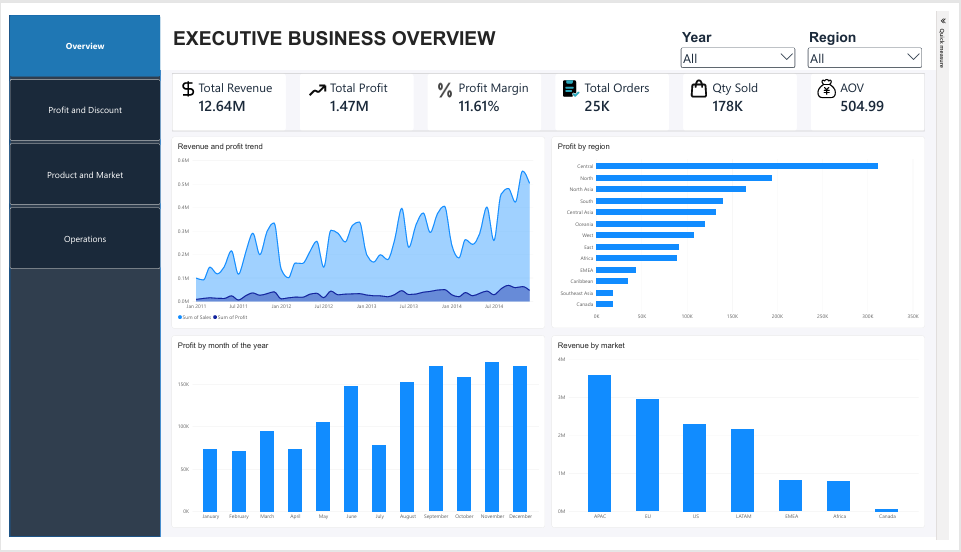

What the dashboard file says about the page in this screenshot:
{"tool":"powerbi","page":{"name":"Overview","canvas":[2560,1440],"ordinal":0},"visuals":[{"type":"shape","box":[0,0,416,1441.3],"z":0},{"type":"shape","box":[416.6,0,2143.4,151.2],"z":1000},{"type":"textbox","box":[416,32,960,128],"z":2000},{"type":"slicer","fields":{"Values":["Sheet1.Region"]},"box":[2199.7,37.6,325.6,137.7],"z":3000},{"type":"slicer","fields":{"Values":["Sheet1.Order Date.Variation.Date Hierarchy.Year","Sheet1.Order Date.Variation.Date Hierarchy.Quarter","Sheet1.Order Date.Variation.Date Hierarchy.Month"]},"box":[1849,37.6,325.6,137.7],"z":4000},{"type":"cardVisual","fields":{"Data":["Sum(Sheet1.Sales)","Sum(Sheet1.Profit)","Sheet1.Profit Margin","Sheet1.Total Orders","Sheet1.Qty Sold","Sheet1.AOV"]},"box":[448,160,2080,160],"z":5000},{"type":"lineChart","title":"Revenue and profit trend","fields":{"Category":["Sheet1.Order Date.Variation.Date Hierarchy.Year","Sheet1.Order Date.Variation.Date Hierarchy.Month"],"Y":["Sum(Sheet1.Sales)","Sum(Sheet1.Profit)"]},"box":[447.2,334.5,1031.7,530],"z":6000},{"type":"barChart","title":"Profit by region","fields":{"Category":["Sheet1.Region"],"Y":["Sheet1.Total Profit"]},"box":[1496.9,334.2,1031.1,530],"z":7000},{"type":"clusteredColumnChart","title":"Profit by month of the year","fields":{"Category":["Sheet1.Order Date.Variation.Date Hierarchy.Month"],"Y":["Sheet1.Total Profit"]},"box":[447.2,883.9,1031.7,531.7],"z":8000},{"type":"lineClusteredColumnComboChart","title":"Revenue by market","fields":{"Category":["Sheet1.Market"],"Y":["Sum(Sheet1.Sales)"]},"box":[1496.6,883.9,1031.7,531.7],"z":9000},{"type":"pageNavigator","box":[0,0,415.5,700],"z":10000}]}

Visuals, with their boxes on the page's 2560x1440 design canvas (x1, y1, x2, y2). These are canvas units, not pixel positions in the 961x552 screenshot, which may show the page scaled, cropped or inside an application window:
shape: <bbox>0, 0, 416, 1441</bbox>
shape: <bbox>417, 0, 2560, 151</bbox>
textbox: <bbox>416, 32, 1376, 160</bbox>
slicer - Sheet1.Region: <bbox>2200, 38, 2525, 175</bbox>
slicer - Sheet1.Order Date.Variation.Date Hierarchy.Year x Sheet1.Order Date.Variation.Date Hierarchy.Quarter: <bbox>1849, 38, 2175, 175</bbox>
cardVisual - Sum(Sheet1.Sales) x Sum(Sheet1.Profit): <bbox>448, 160, 2528, 320</bbox>
"Revenue and profit trend" lineChart: <bbox>447, 334, 1479, 864</bbox>
"Profit by region" barChart: <bbox>1497, 334, 2528, 864</bbox>
"Profit by month of the year" clusteredColumnChart: <bbox>447, 884, 1479, 1416</bbox>
"Revenue by market" lineClusteredColumnComboChart: <bbox>1497, 884, 2528, 1416</bbox>
pageNavigator: <bbox>0, 0, 416, 700</bbox>
